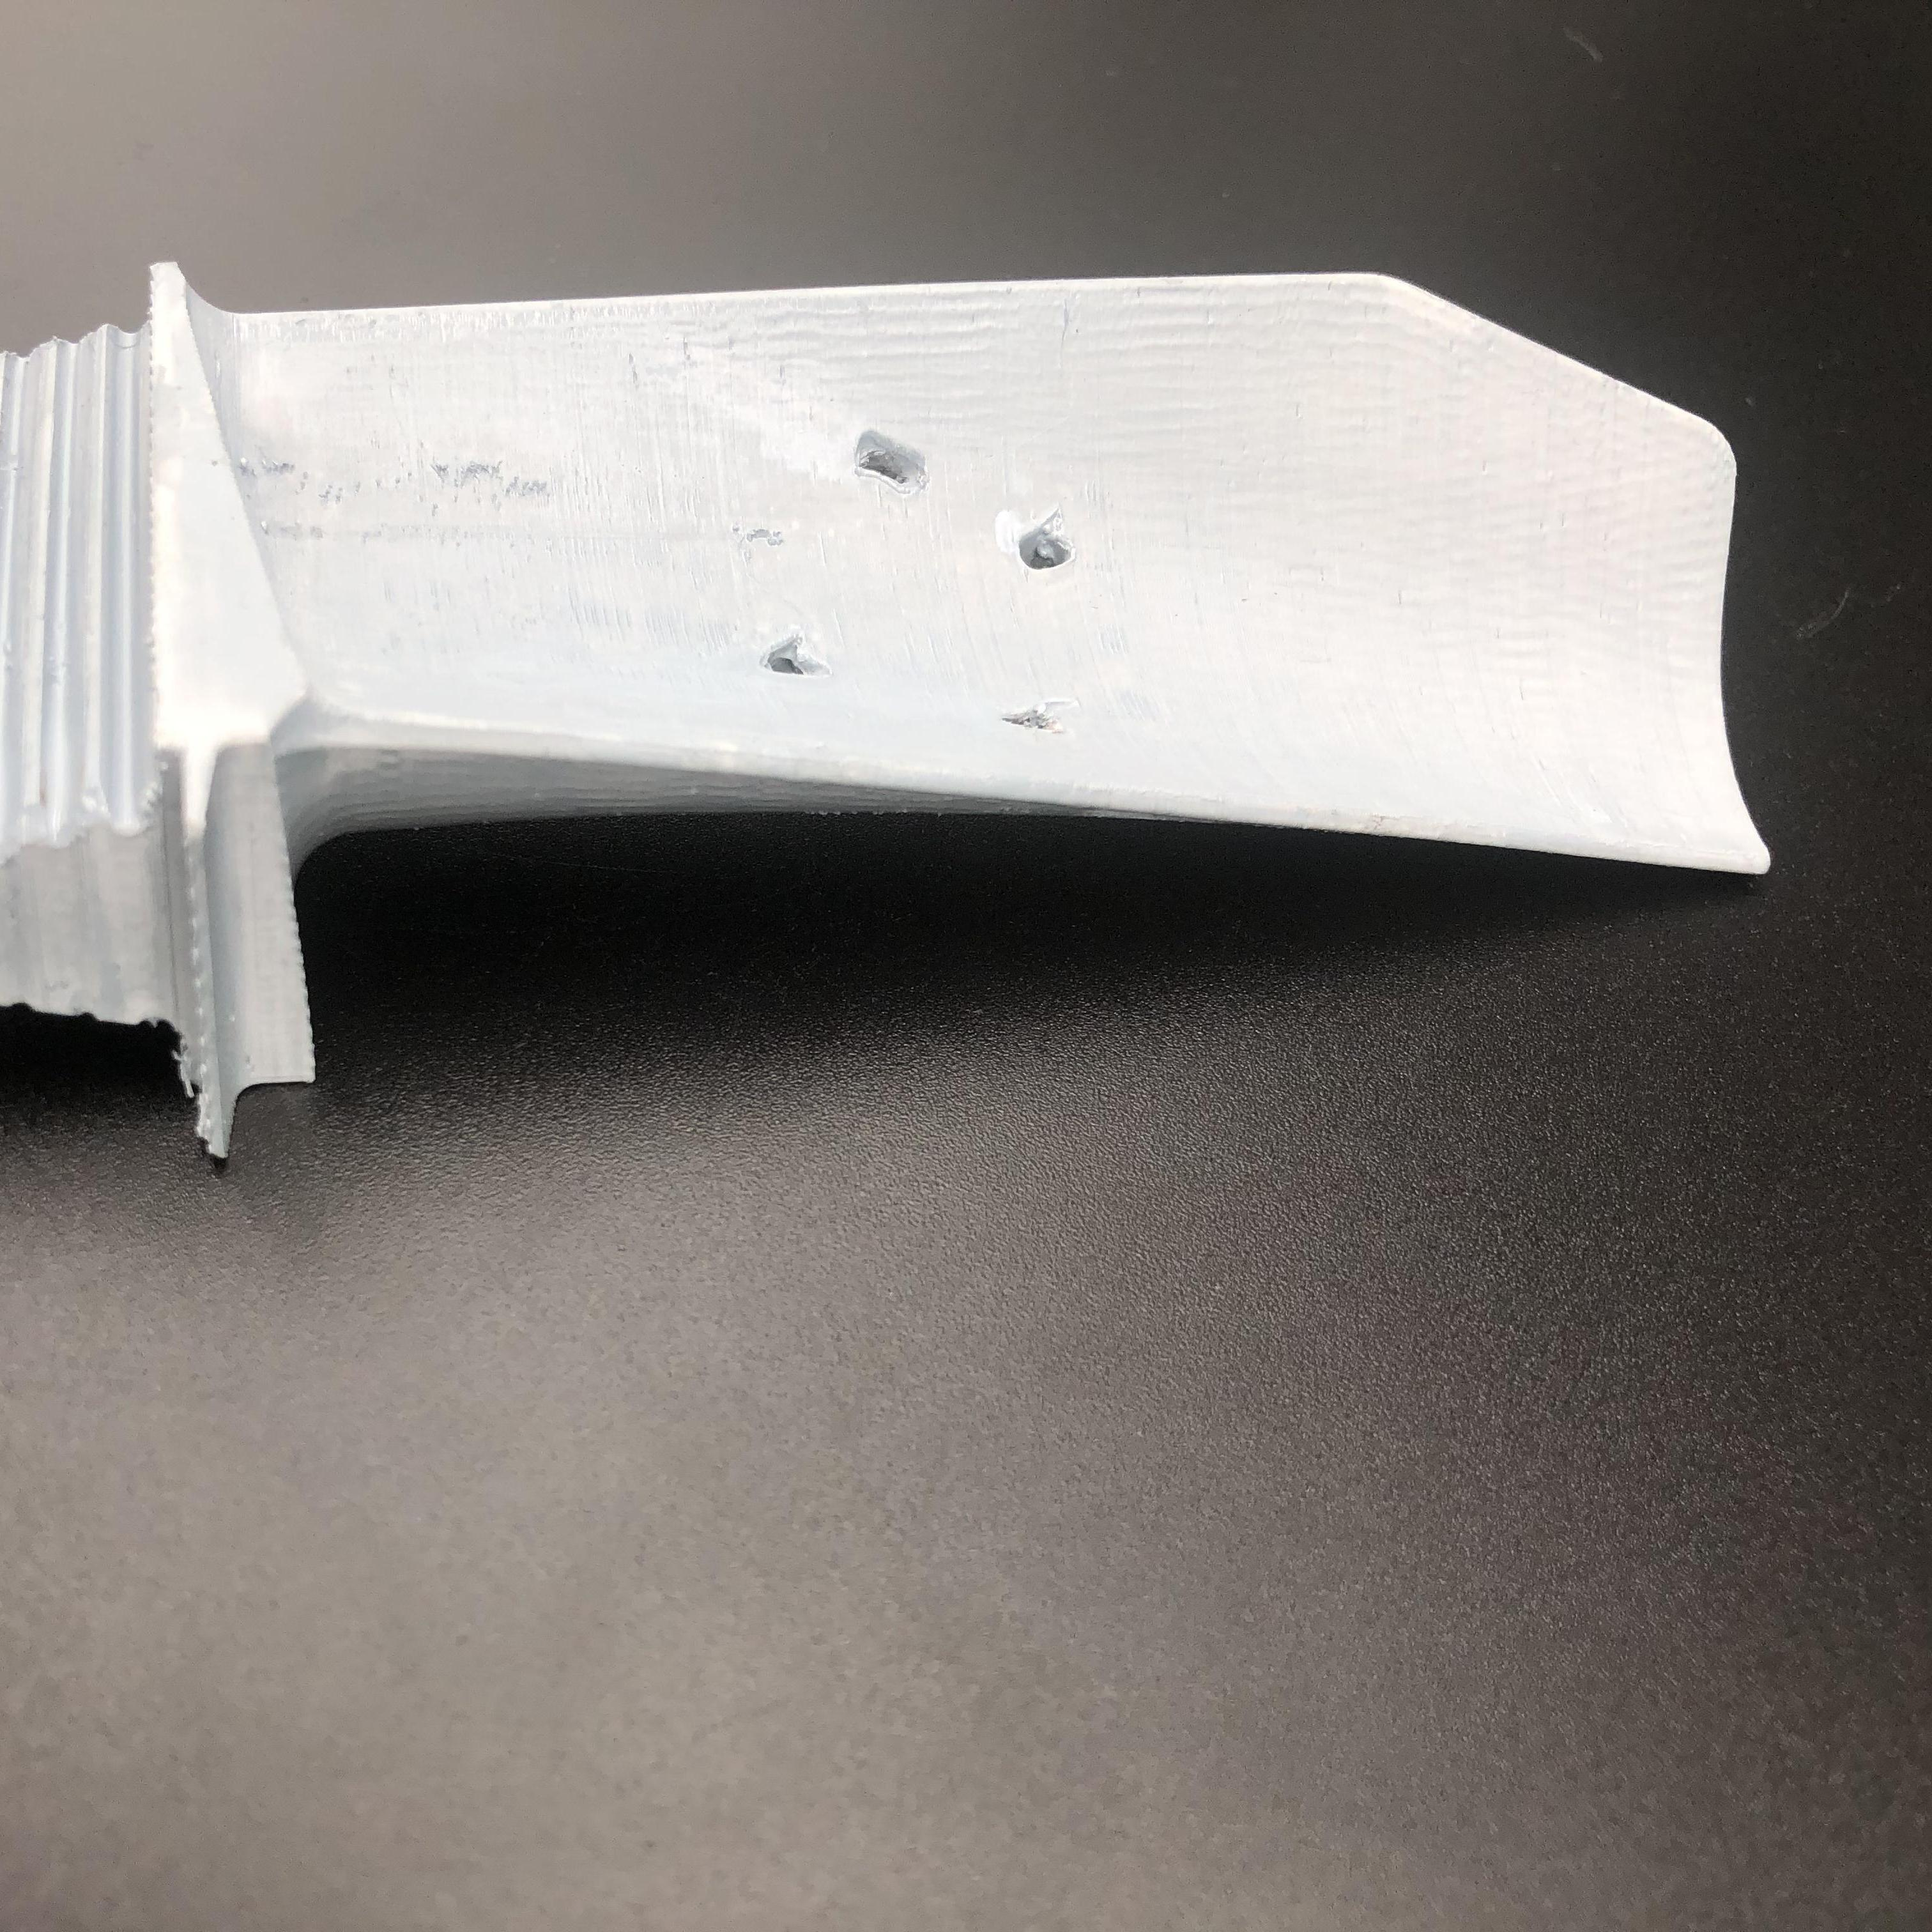breakdown: (771, 428, 1081, 745)
